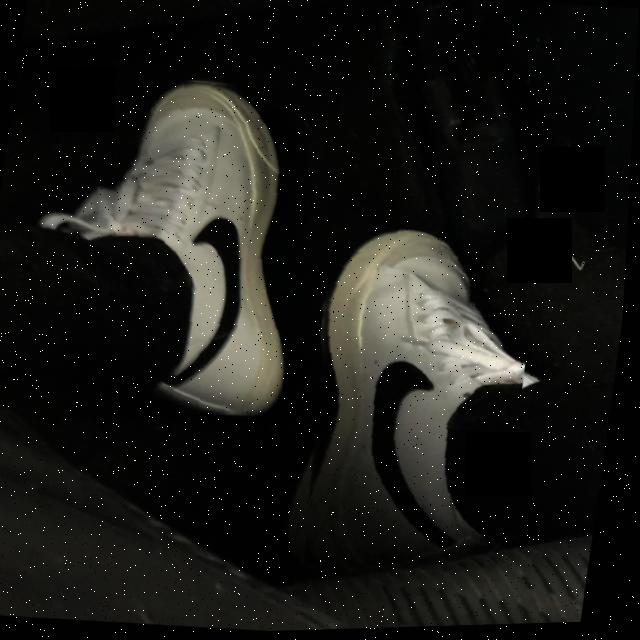shoe: (289, 222, 546, 584), (75, 70, 325, 424)
